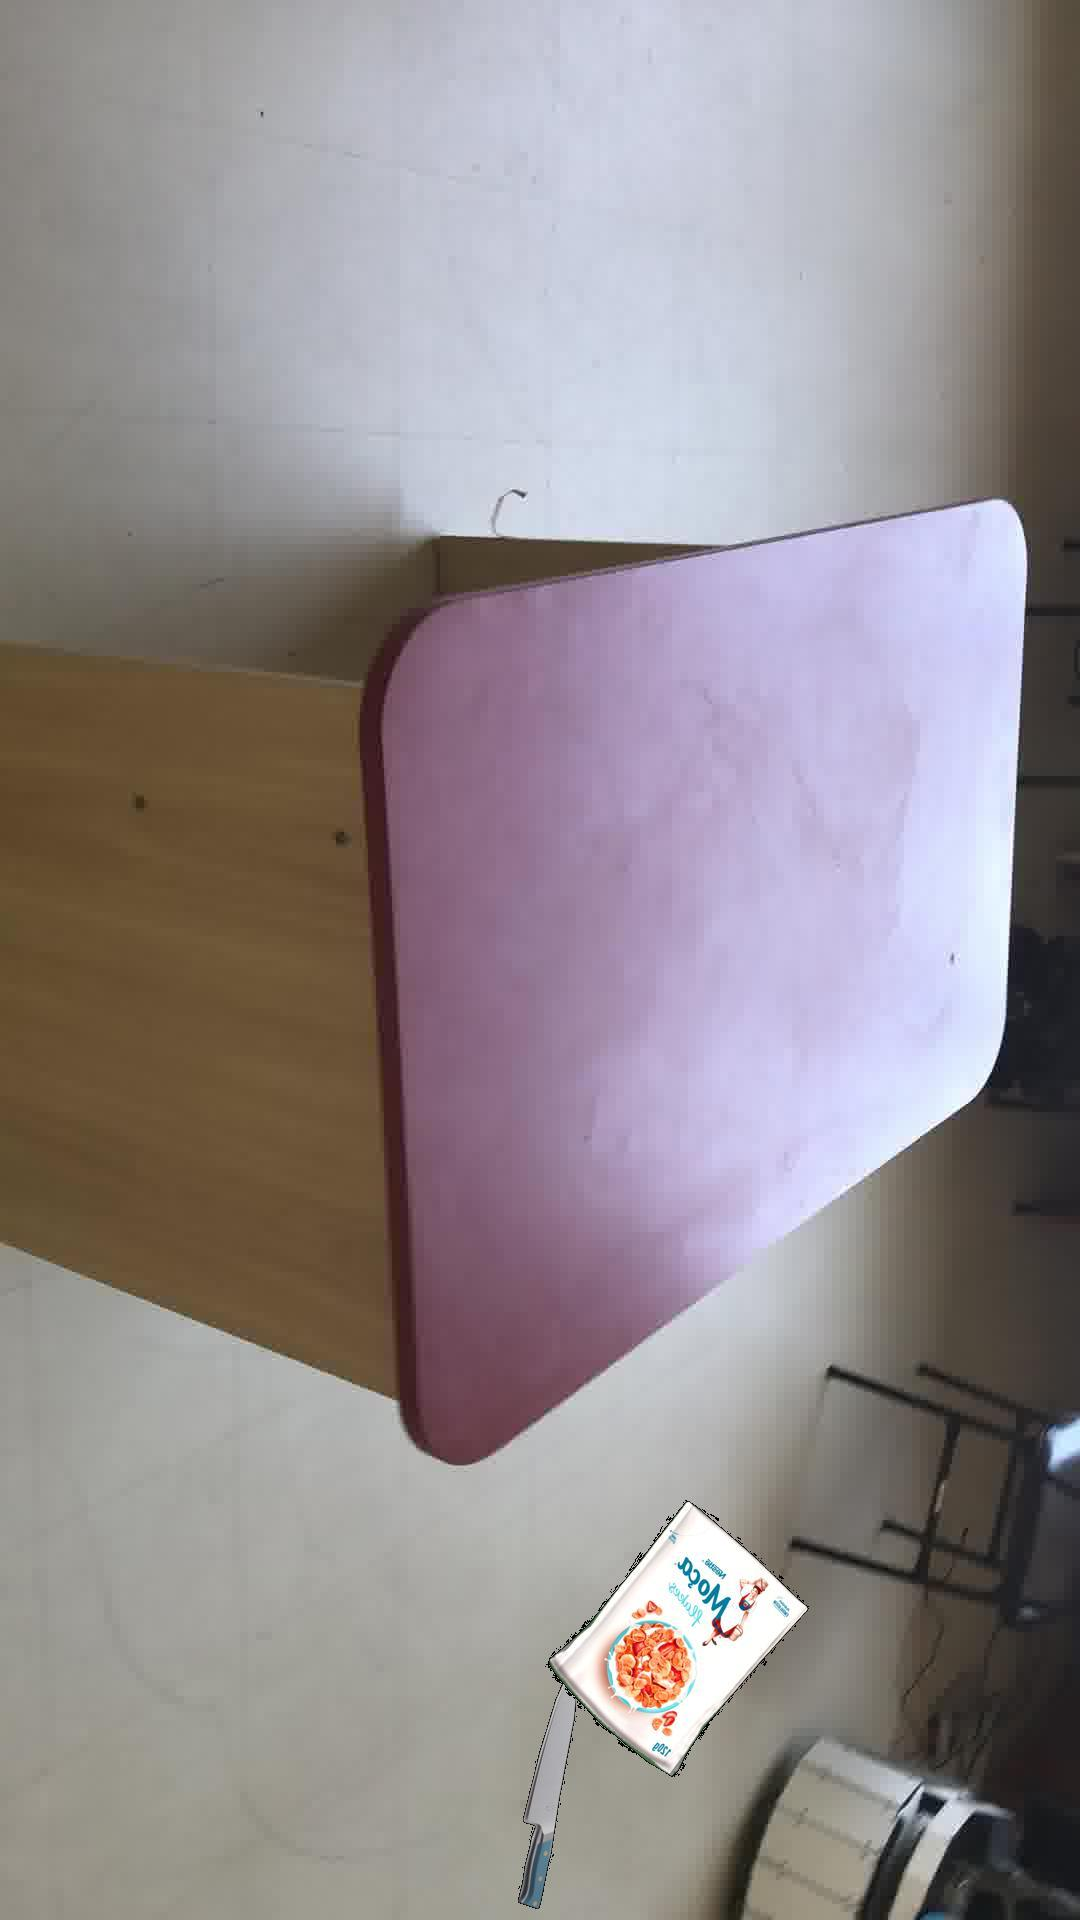corn flakes: (545, 1498, 807, 1775)
knife: (517, 1681, 575, 1908)
